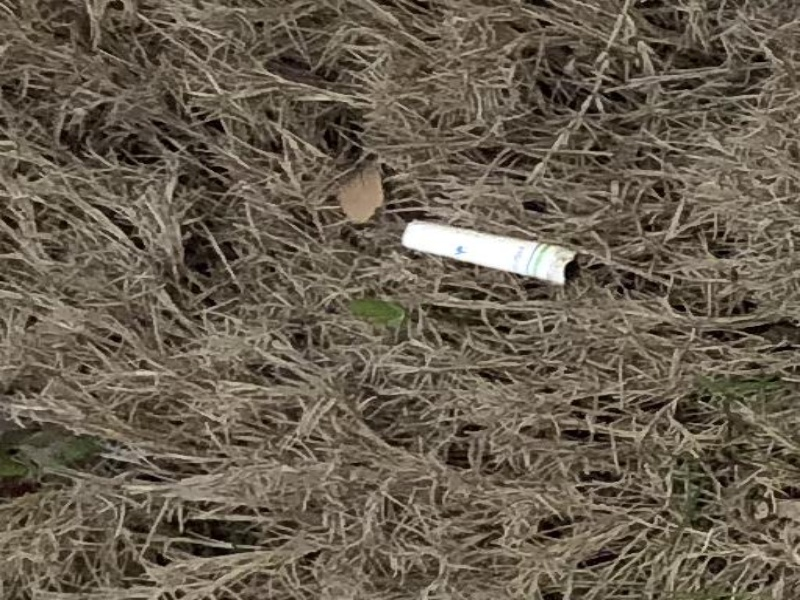cig: (407, 219, 576, 293)
